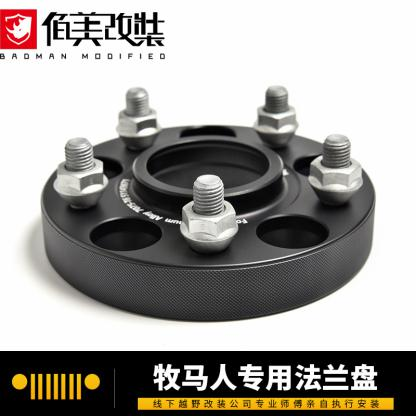FOD: (34, 109, 380, 322)
